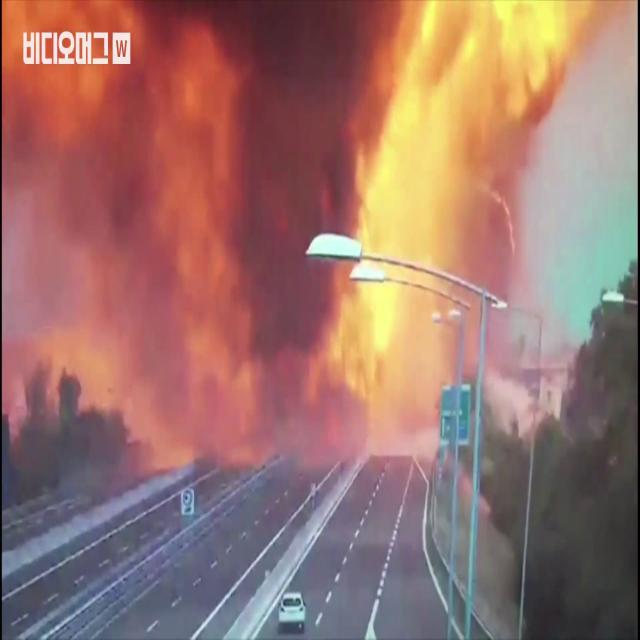explosion: (0, 6, 640, 513)
